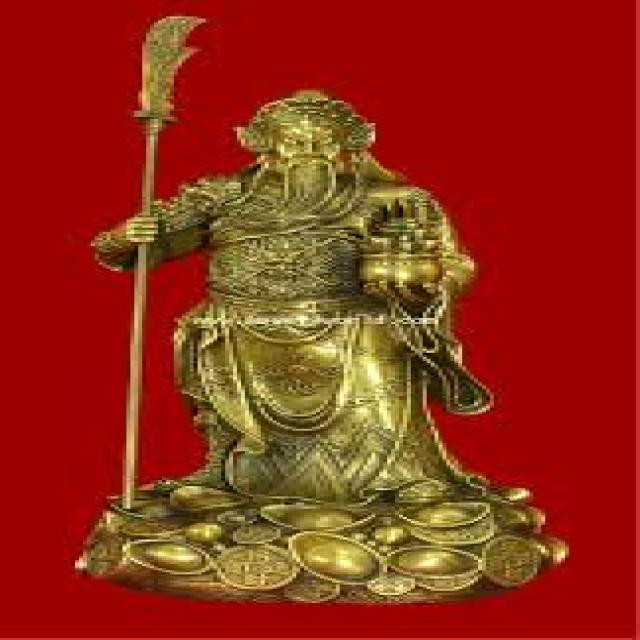Guan Yu: (109, 80, 486, 506)
